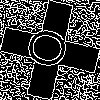O: (25, 25, 78, 73)
